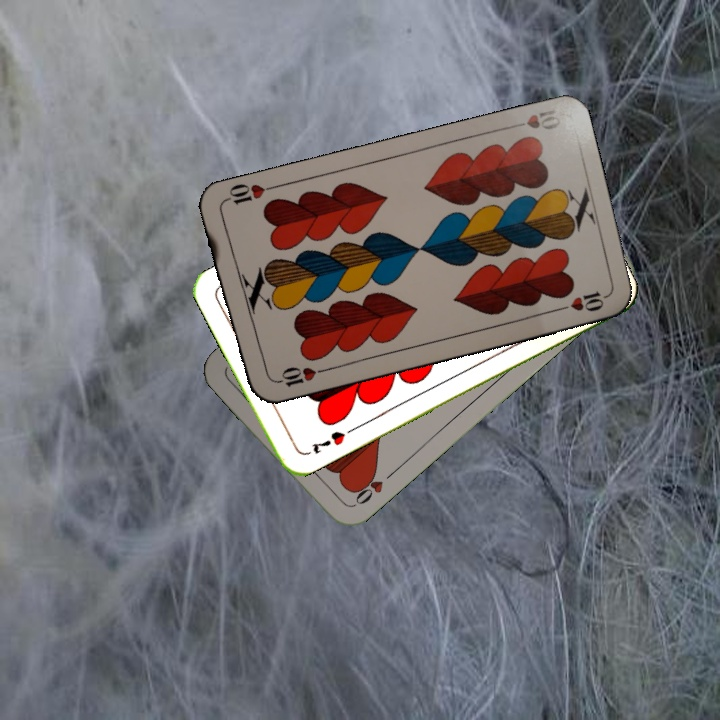H10: (504, 104, 563, 133), (269, 363, 328, 390)
H7: (307, 427, 348, 457)
HO: (347, 466, 397, 510)
